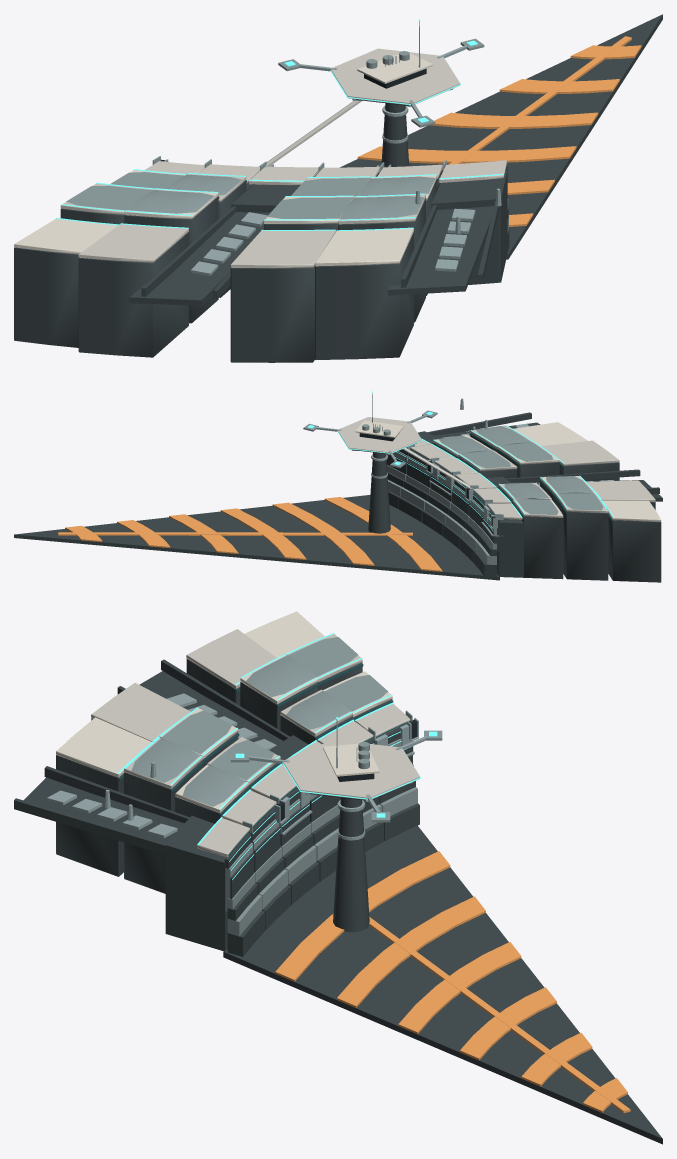
The model's file is Weather_Lung_Sector_07.glb.
The picture shows the model from 3 angles, top to bottom: view 1: azimuth 30°, elevation 25°; view 2: azimuth 150°, elevation 25°; view 3: azimuth 270°, elevation 25°; orthographic projection. The views are drawn at different scales.
Parts seen in each view (by area): view 1: Weather_Lung_Sector_07; view 2: Weather_Lung_Sector_07; view 3: Weather_Lung_Sector_07.
Boxes of the visible parts, x1,y1,x2,y2 form: Weather_Lung_Sector_07: [14, 14, 662, 362]; Weather_Lung_Sector_07: [14, 391, 662, 582]; Weather_Lung_Sector_07: [14, 611, 662, 1144].
Bounding box in the file's own units: 11295 × 2749 × 7289.
